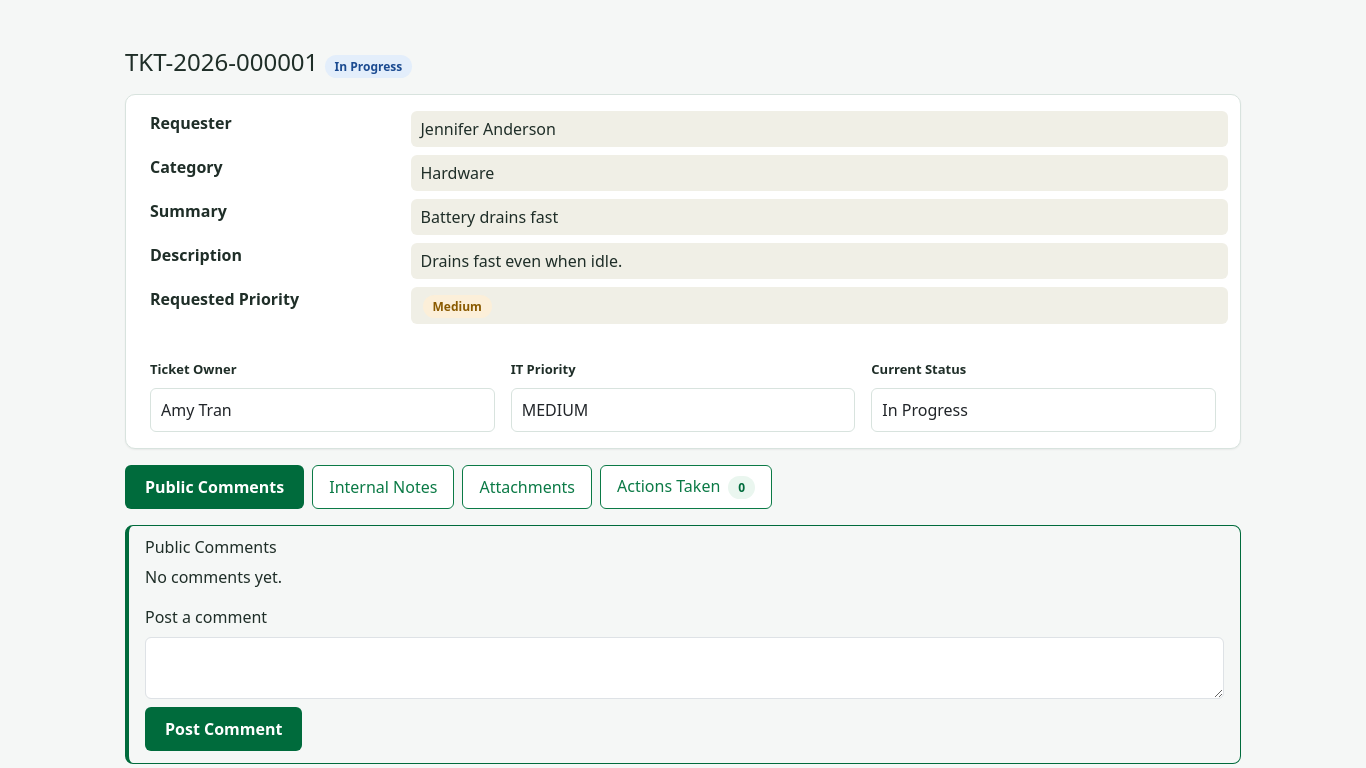
Test: Actions Taken on Staff Ticket Detail (UI-01) › shows the empty state
The width and height of the screenshot is (1366, 768).
Expected: the heading "TKT-2026-000001 In Progress" is shown, [125, 45, 412, 78]
What coordinates should you click on to do the following:
click the tab "Actions Taken 0"
I would click on:
 (686, 487)
Its box is [600, 465, 772, 509].
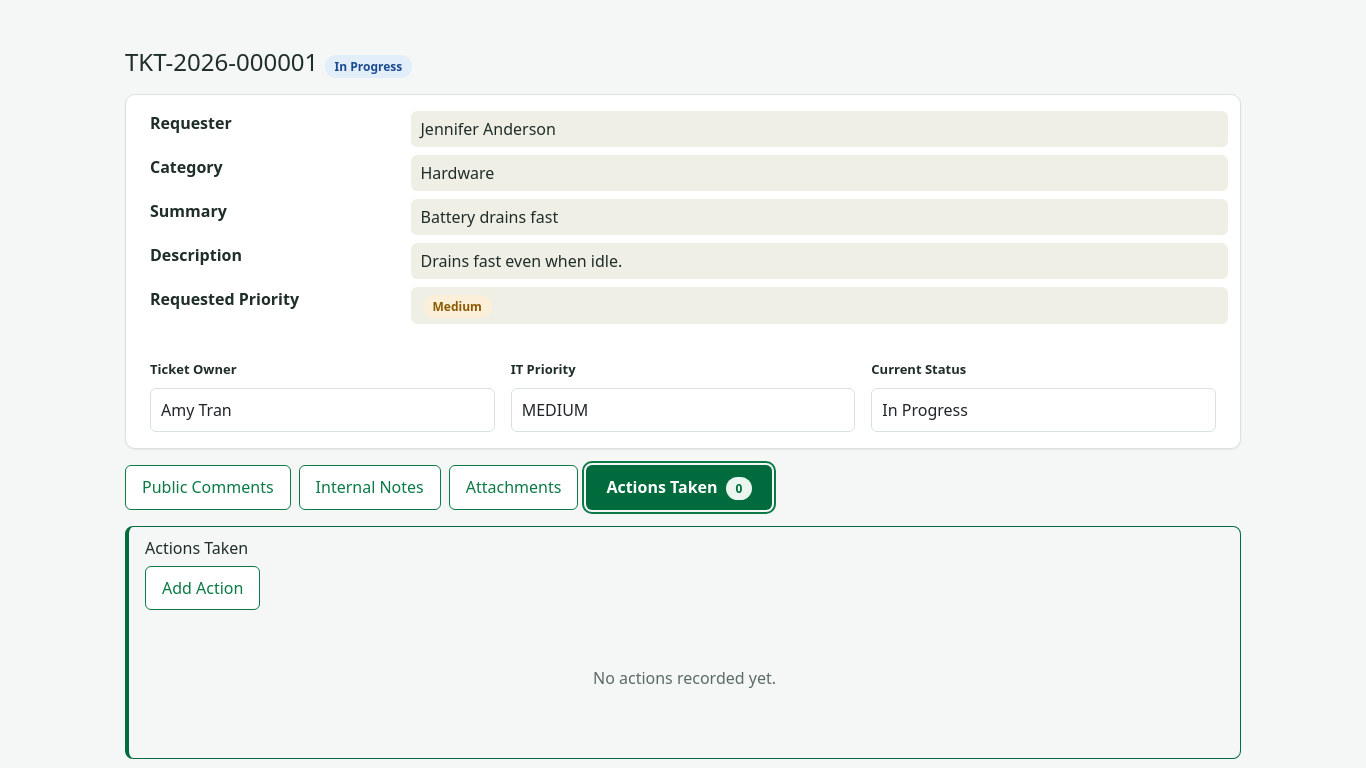
Result: the text "No actions recorded yet." is shown at [593, 667, 776, 689]
